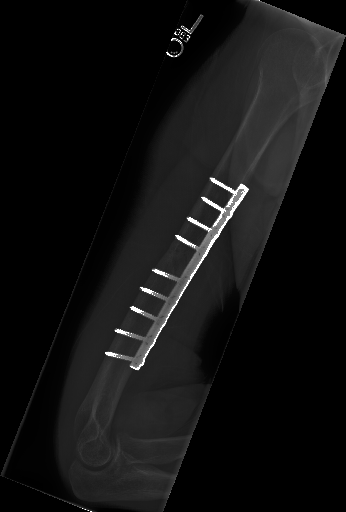implant: (105, 255, 189, 369), (175, 170, 254, 253)
